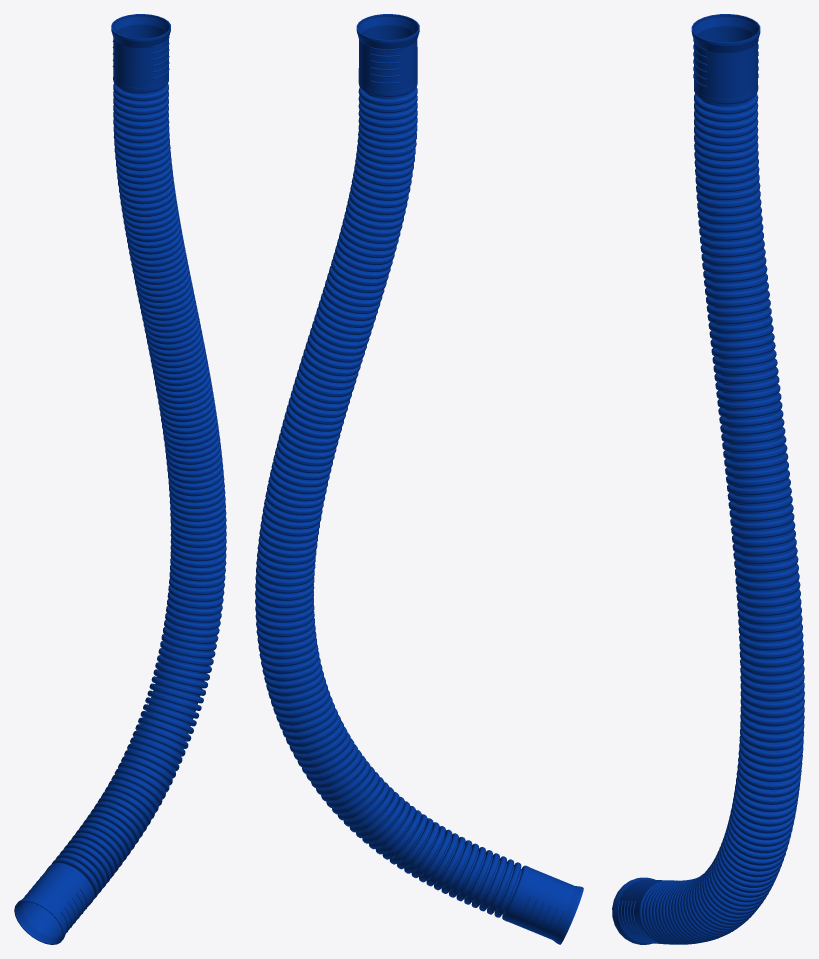
Rendered from DrylineGeo.fbx.
The picture shows the model from 3 angles, left to right: view 1: azimuth 30°, elevation 25°; view 2: azimuth 150°, elevation 25°; view 3: azimuth 270°, elevation 25°; orthographic projection. The views are drawn at different scales.
Parts seen in each view (by area): view 1: DrylineGeo; view 2: DrylineGeo; view 3: DrylineGeo.
Part boxes in pixels (x1,y1,x2,y2): DrylineGeo: (14,14,226,944); DrylineGeo: (255,14,583,944); DrylineGeo: (612,14,804,944).
Size of the model in its own units: 12.55 by 40.67 by 7.19.
